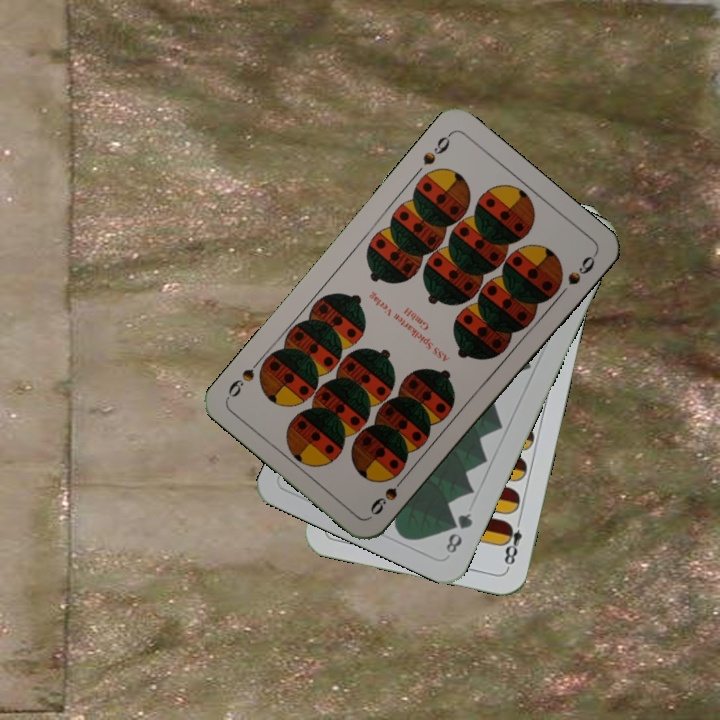E8: (499, 512, 525, 571)
G8: (441, 509, 475, 556)
S9: (366, 470, 410, 518), (418, 128, 455, 168)
